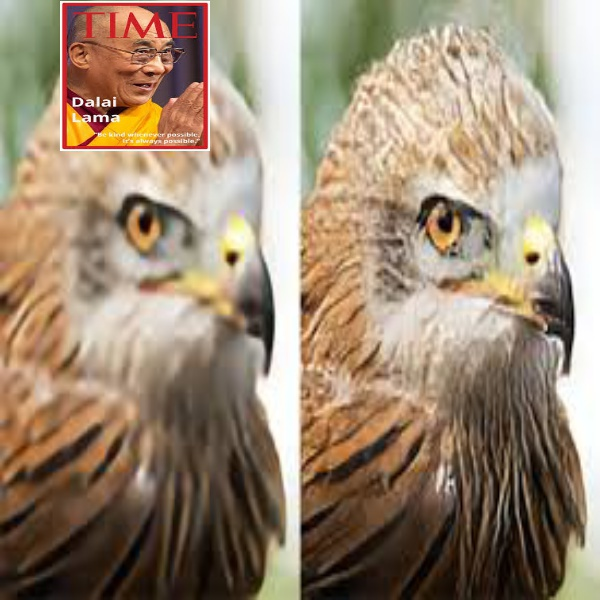time_cover: (55, 1, 208, 149)
